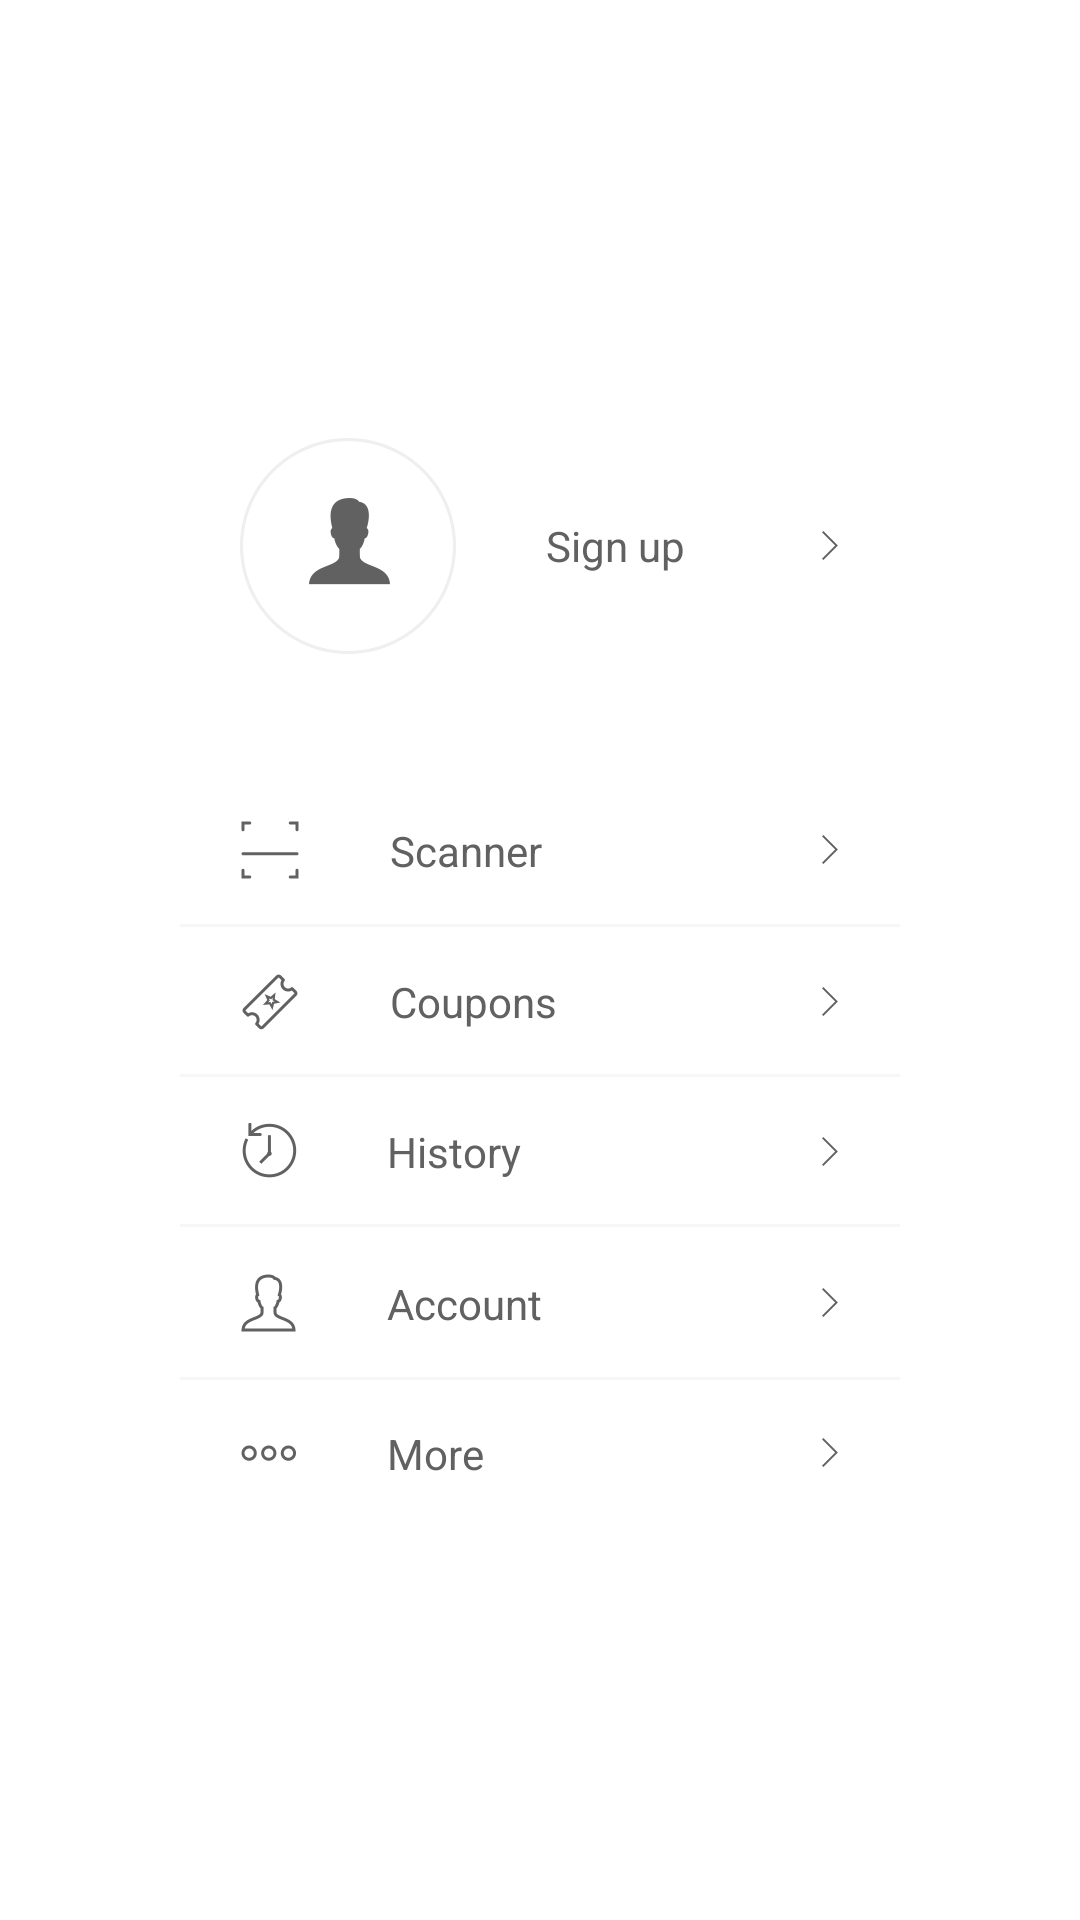

Named icons in this screenshot (1080x1920) and their centers, [x,y]:
profile pic unknown: [349,541]
